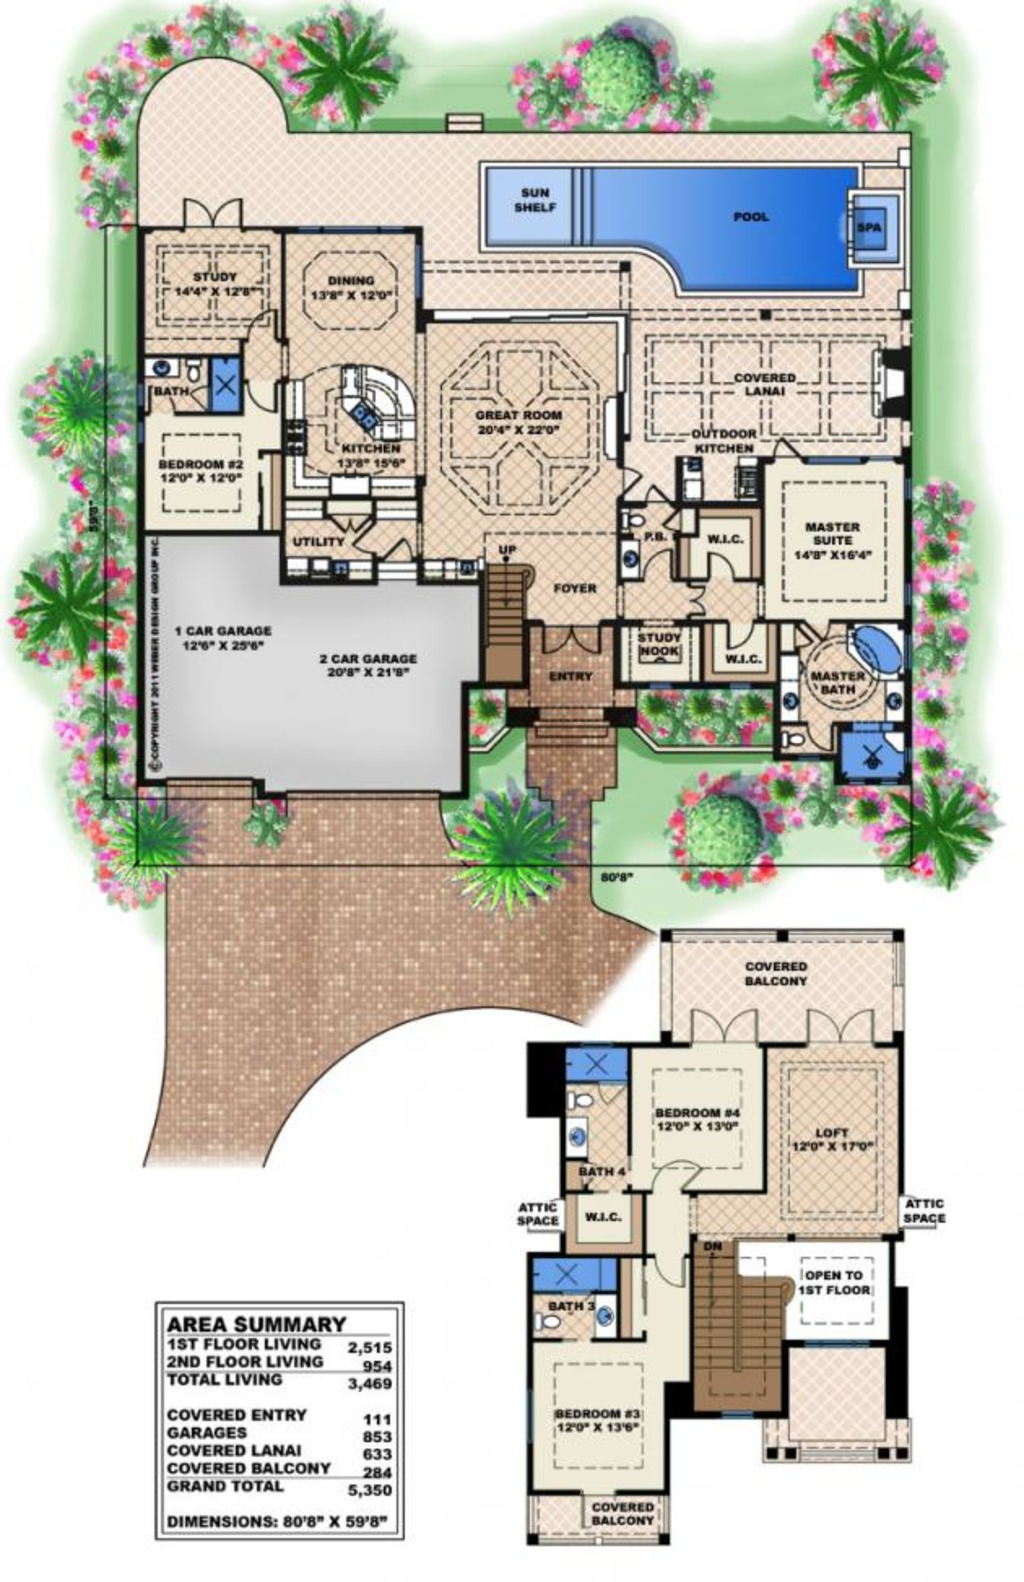door: (790, 1000, 878, 1050), (173, 184, 254, 229), (693, 1007, 761, 1050), (527, 624, 603, 661), (238, 303, 285, 351), (654, 1159, 710, 1193), (717, 617, 759, 660), (654, 1251, 690, 1298), (249, 372, 285, 417), (637, 551, 682, 585), (707, 553, 744, 585)
large_sink: (569, 1073, 607, 1122), (537, 1299, 578, 1342), (781, 720, 820, 756)
small_sink: (884, 676, 917, 729), (142, 356, 176, 387)
stairs: (693, 1240, 800, 1412), (476, 553, 532, 703)
